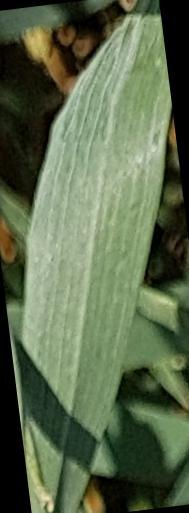Wheat: (18, 314, 126, 500), (44, 149, 153, 299), (80, 9, 170, 130)
